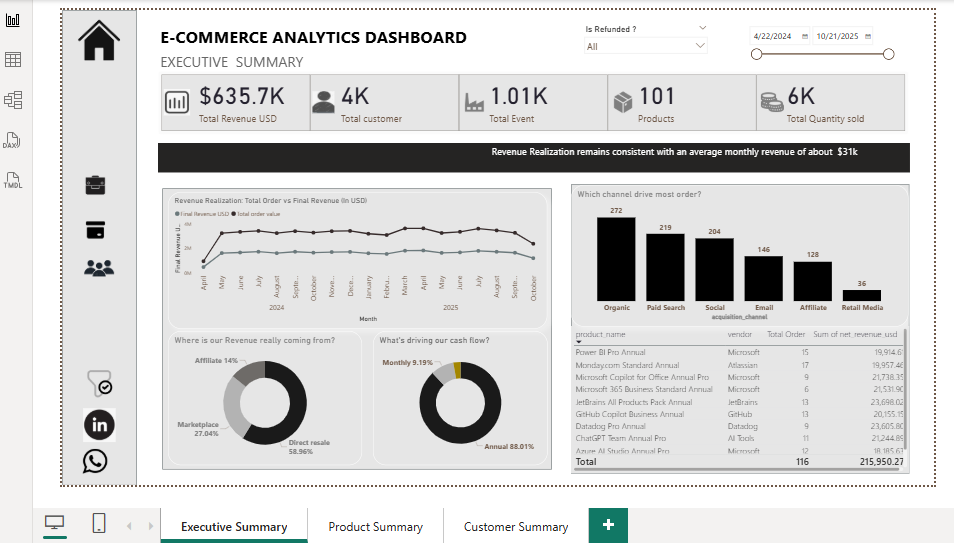

What the dashboard file says about the page in this screenshot:
{"tool":"powerbi","page":{"name":"Executive Summary","canvas":[1980,1080],"ordinal":0},"visuals":[{"type":"textbox","box":[219,28.6,769,85.7],"z":0},{"type":"textbox","box":[218.2,88.6,386.6,97.2],"z":1000},{"type":"slicer","fields":{"Values":["Events_updated.is_refunded"]},"box":[1177.2,28.1,300.2,77.8],"z":2000},{"type":"slicer","fields":{"Values":["Events_updated.event_date"]},"box":[1550.9,28.1,349.9,86.4],"z":3000},{"type":"cardVisual","fields":{"Data":["Measure Table.Total Revenue USD","Measure Table.Total customer","Measure Table.Total Event","Measure Table.Products","Measure Table.Total Quantity sold"]},"box":[218.2,138.2,1706.4,144.7],"z":4000},{"type":"textbox","box":[218.2,302.4,1708.6,67],"z":5000},{"type":"shape","box":[218.2,395.3,905,658.8],"z":6000},{"type":"shape","box":[1157.8,395.3,769,658.8],"z":7000},{"type":"donutChart","title":"Where is our Revenue really coming from?","fields":{"Y":["Sum(Events_updated.net_revenue_usd)"],"Category":["Products_final__3.resale_model"]},"box":[241.9,730.1,440.6,304.6],"z":8000},{"type":"donutChart","title":"What''s driving our cash flow?","fields":{"Y":["Sum(Events_updated.net_revenue_usd)"],"Category":["Products_final__3.billing_cycle"]},"box":[706.3,730.1,397.4,304.6],"z":9000},{"type":"stackedAreaChart","title":"Revenue Realization: Total Order vs Final Revenue (In USD) ","fields":{"Category":["Events.event_date.Variation.Date Hierarchy.Year","Events.event_date.Variation.Date Hierarchy.Month"],"Y":["Measure Table.Final Revenue USD 2","Measure Table.Total order value 2"]},"box":[241.9,414.7,861.8,311],"z":10000},{"type":"tableEx","fields":{"Values":["Products_final__3.product_name","Products_final__3.vendor","Measure Table.Total Order Value","Sum(Events_updated.net_revenue_usd)"]},"box":[1157.8,719.3,769,334.8],"z":11000},{"type":"columnChart","title":"Which channel drive most order?","fields":{"Y":["CountNonNull(Events_updated.Order)"],"Category":["Customers_with_coords.acquisition_channel"]},"box":[1157.8,397.4,766.8,321.8],"z":12000},{"type":"shape","box":[0,0,169.6,1080.4],"z":13000},{"type":"image","box":[0,0,169.6,137],"z":14000},{"type":"image","box":[45.7,313,60.9,169.6],"z":15000},{"type":"image","box":[45.7,369.6,60.9,258.7],"z":16000},{"type":"image","box":[45.7,454.3,78.3,265.2],"z":17000},{"type":"image","box":[23.9,969.6,100,110.9],"z":18000},{"type":"image","box":[0,900,169.6,87],"z":19000},{"type":"image","box":[45.7,754.3,78.3,189.1],"z":20000}]}

Visuals, with their boxes on the page's 1980x1080 design canvas (x1, y1, x2, y2). These are canvas units, not pixel positions in the 954x543 screenshot, which may show the page scaled, cropped or inside an application window:
textbox: rect(219, 29, 988, 114)
textbox: rect(218, 89, 605, 186)
slicer - Events_updated.is_refunded: rect(1177, 28, 1477, 106)
slicer - Events_updated.event_date: rect(1551, 28, 1901, 114)
cardVisual - Measure Table.Total Revenue USD x Measure Table.Total customer: rect(218, 138, 1925, 283)
textbox: rect(218, 302, 1927, 369)
shape: rect(218, 395, 1123, 1054)
shape: rect(1158, 395, 1927, 1054)
"Where is our Revenue really coming from?" donutChart: rect(242, 730, 682, 1035)
"What''s driving our cash flow?" donutChart: rect(706, 730, 1104, 1035)
"Revenue Realization: Total Order vs Final Revenue (In USD) " stackedAreaChart: rect(242, 415, 1104, 726)
tableEx - Products_final__3.product_name x Products_final__3.vendor: rect(1158, 719, 1927, 1054)
"Which channel drive most order?" columnChart: rect(1158, 397, 1925, 719)
shape: rect(0, 0, 170, 1080)
image: rect(0, 0, 170, 137)
image: rect(46, 313, 107, 483)
image: rect(46, 370, 107, 628)
image: rect(46, 454, 124, 720)
image: rect(24, 970, 124, 1080)
image: rect(0, 900, 170, 987)
image: rect(46, 754, 124, 943)
